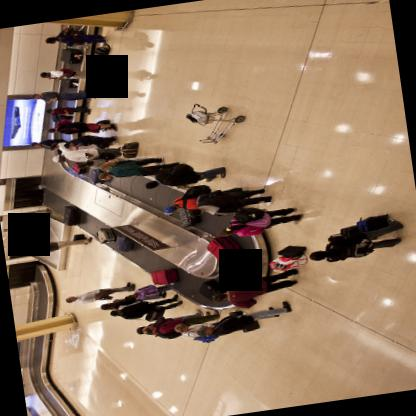backpack: (174, 183, 211, 207), (340, 236, 374, 256), (229, 205, 264, 223), (154, 161, 194, 176), (154, 327, 179, 338), (61, 26, 79, 37), (59, 67, 75, 76)
handbag: (268, 252, 307, 270), (213, 308, 246, 328), (129, 306, 165, 320), (277, 244, 307, 257), (120, 140, 138, 157), (88, 151, 121, 160), (242, 319, 260, 331), (94, 43, 109, 55)
suitcase: (206, 235, 242, 261), (198, 278, 227, 301), (356, 213, 388, 231), (150, 267, 179, 283), (177, 207, 200, 226), (62, 203, 80, 225), (60, 47, 83, 62), (95, 227, 115, 243), (88, 167, 107, 182), (72, 161, 87, 173), (338, 225, 356, 235), (60, 77, 77, 87)
